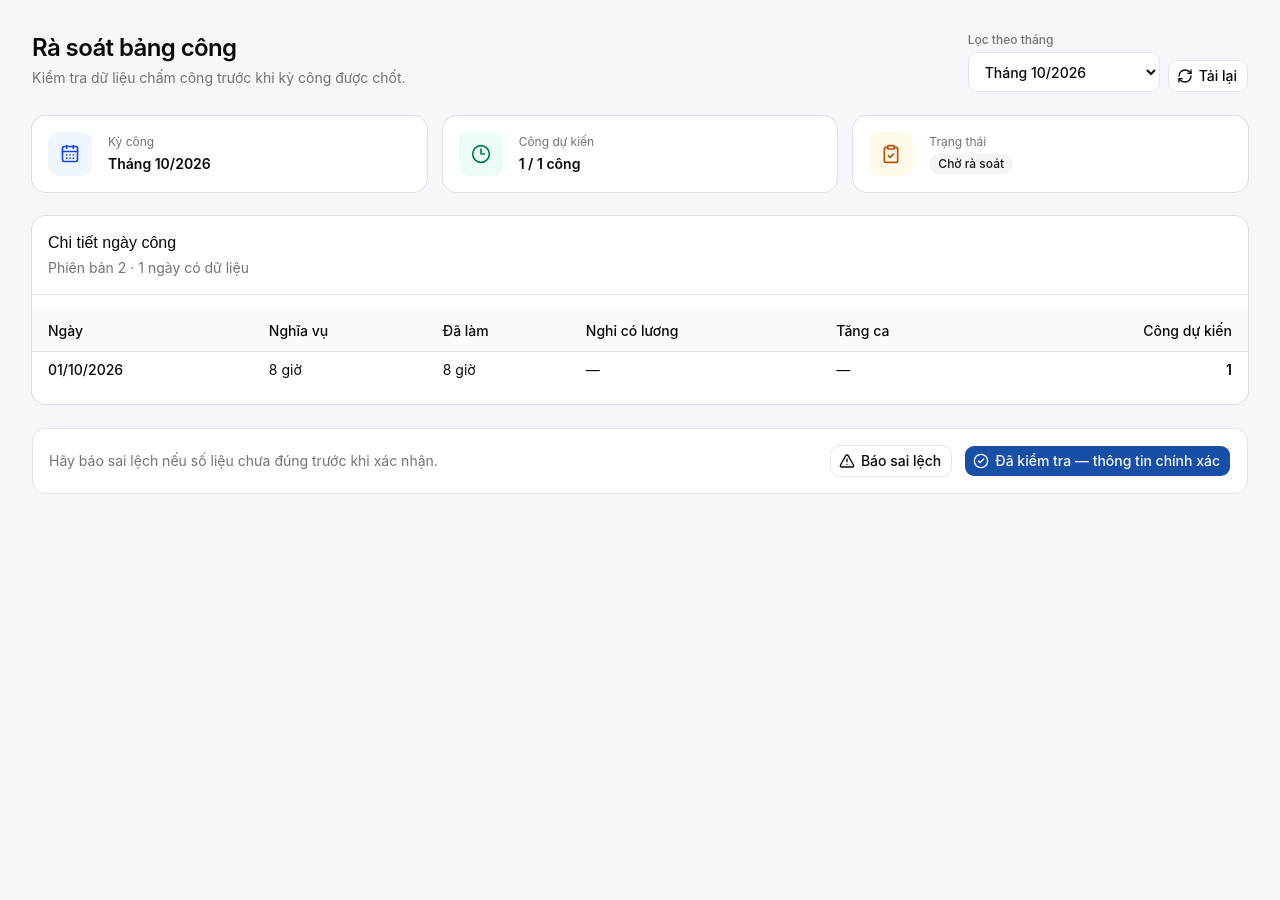
Test: requires a meaningful dispute reason
Click the button "Báo sai lệch" at (891, 460), box [830, 444, 952, 476]
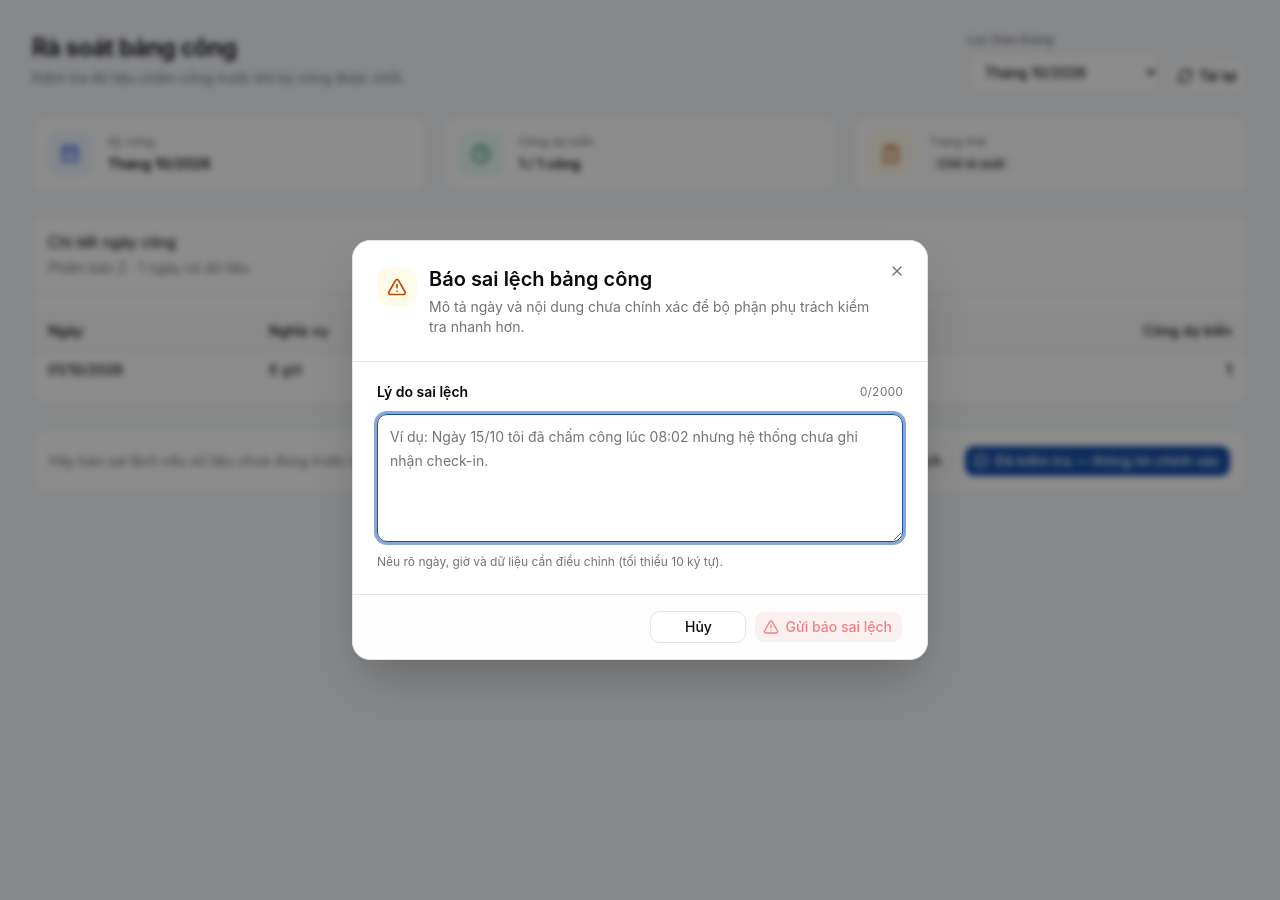
Now the text "Lý do sai lệch" is shown, box [377, 382, 468, 402]
